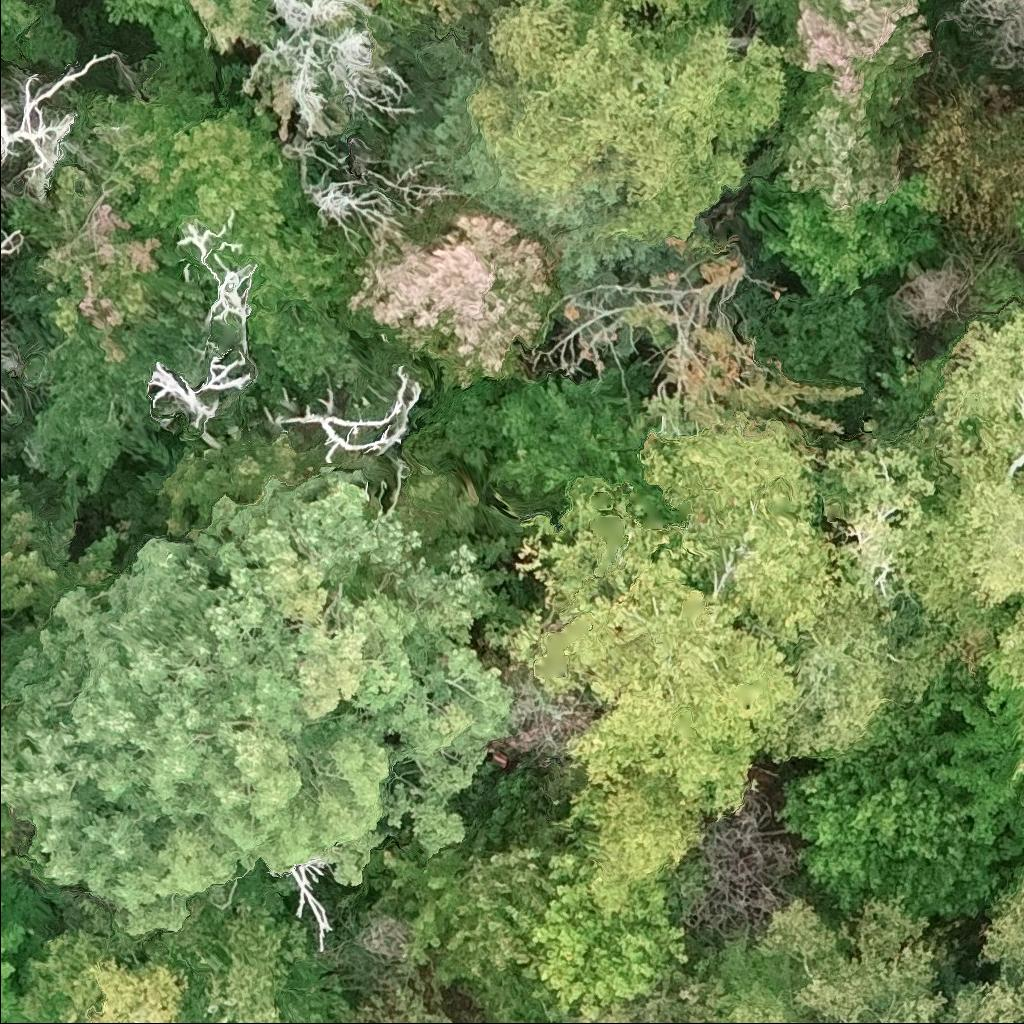crown: (0, 465, 518, 941), (529, 481, 801, 815), (389, 34, 697, 313), (468, 0, 788, 243), (85, 69, 358, 346), (3, 164, 215, 416), (778, 701, 1005, 926), (363, 768, 579, 988), (333, 196, 567, 391), (903, 307, 1023, 684), (641, 417, 834, 649), (8, 897, 359, 1023), (713, 898, 1023, 1023), (522, 844, 692, 1016), (781, 597, 949, 766), (743, 172, 949, 298), (817, 437, 943, 626), (760, 0, 934, 132), (0, 48, 119, 219), (567, 776, 705, 923), (912, 81, 1023, 245), (265, 363, 422, 467), (934, 679, 1023, 858), (766, 105, 905, 210), (146, 349, 255, 435), (178, 220, 256, 333), (0, 483, 61, 615), (298, 176, 406, 248), (0, 872, 50, 1023), (974, 869, 1023, 1018), (936, 0, 1023, 73), (0, 0, 87, 69), (361, 0, 494, 28), (0, 807, 29, 881), (610, 0, 712, 18), (0, 224, 31, 260), (0, 633, 20, 675), (750, 0, 785, 17), (0, 377, 15, 409), (1012, 205, 1023, 243), (430, 1011, 461, 1023)
